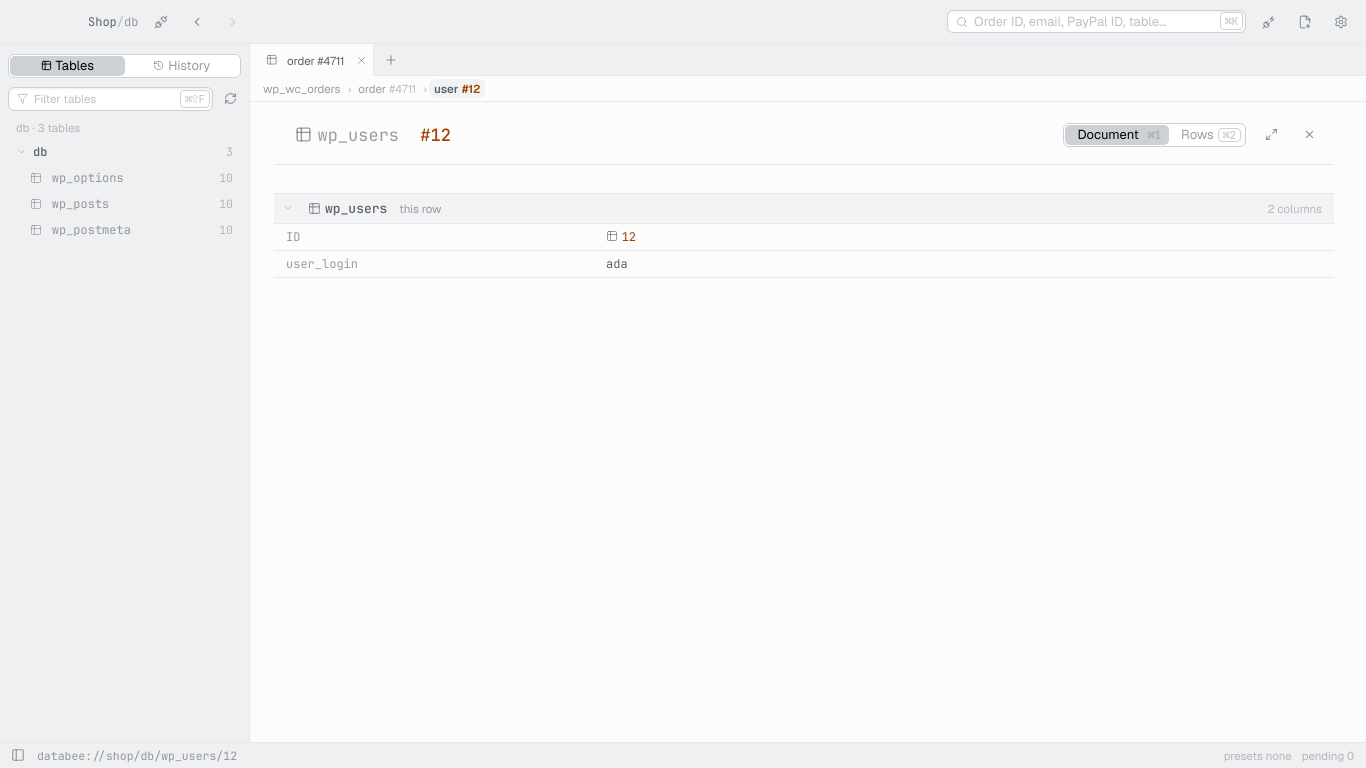
Scenario: column stack › hidden columns › shows a hidden column from its crumb without closing the active one
This screenshot has width=1366, height=768.
Expected: the element showing "db 3 wp_options 10 wp_posts 10 wp_postmeta 10" is shown, [16,144,233,238]
Expected: the element named "Object header" is shown, [274,102,1334,165]
What coordinates should you click on to do the following:
click the button "order #4711"
I would click on:
 (387, 88)
Its box is [353,79,421,98].
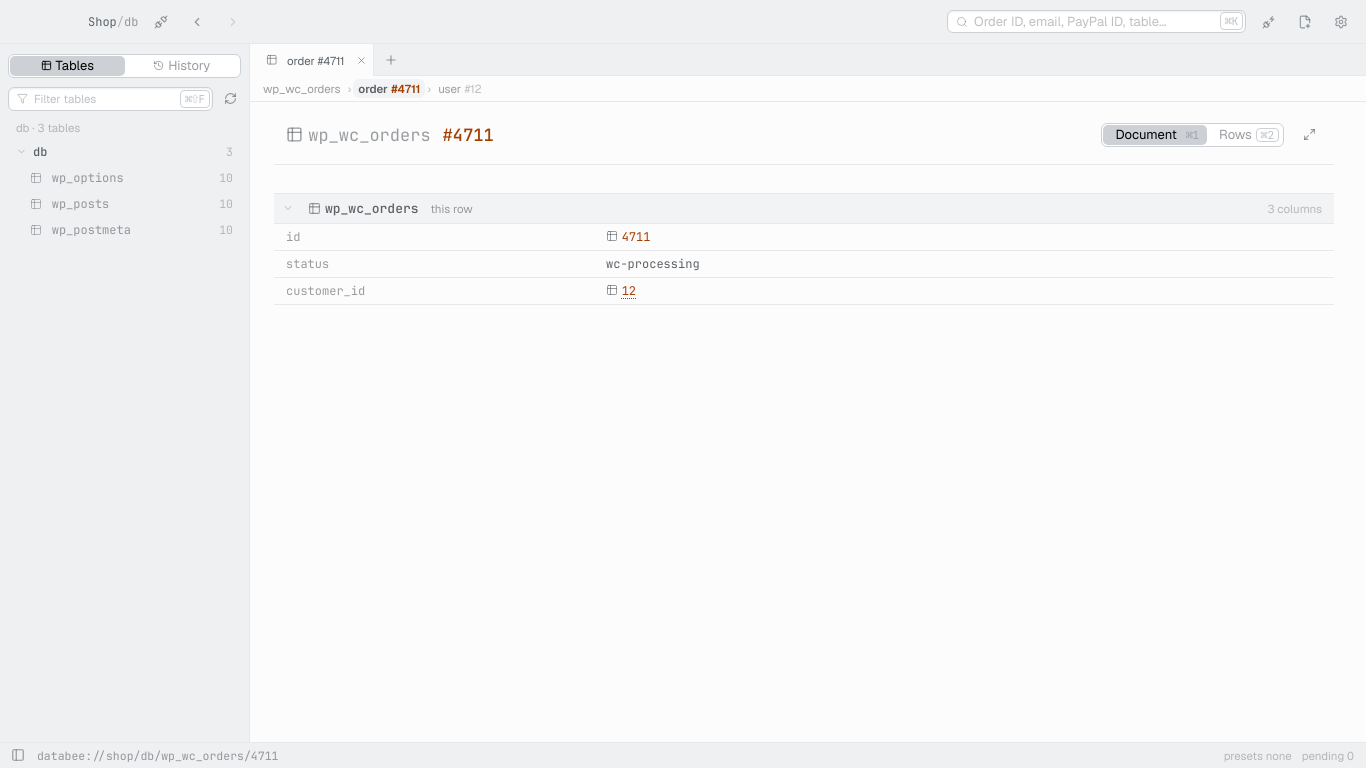
Result: the element "wp_wc_orders #4711" is shown
Result: the element "wp_users #12" is gone
